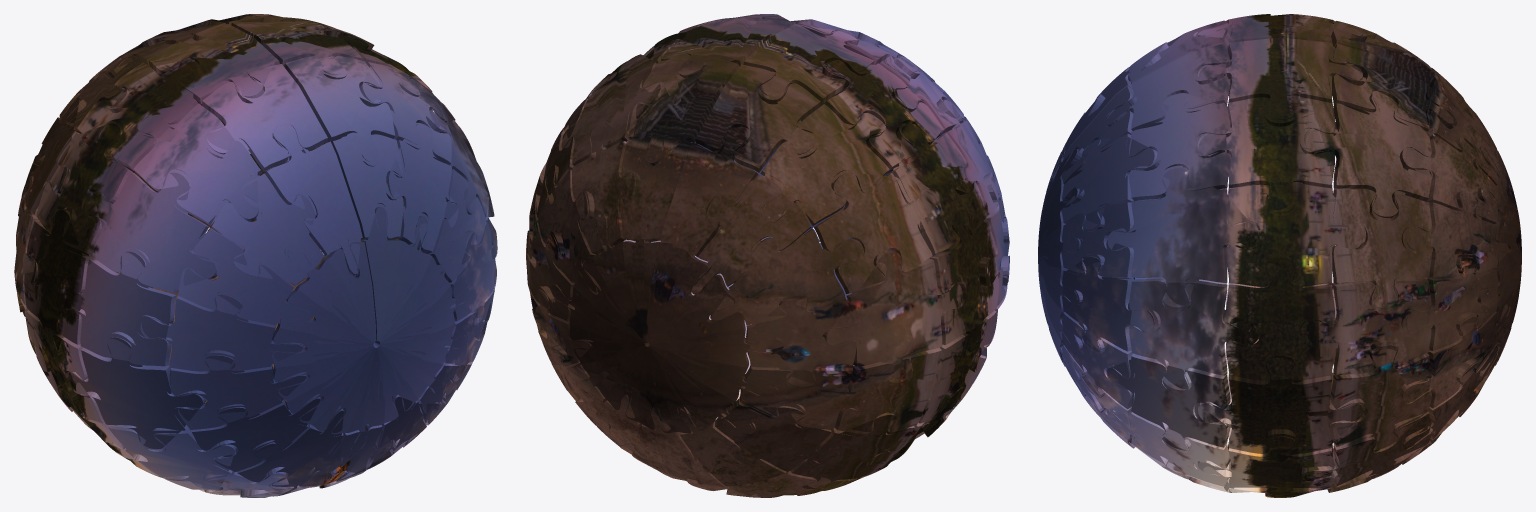
Rendered from medium-puzzle-v9.fbx.
The picture shows the model from 3 angles, left to right: view 1: azimuth 30°, elevation 25°; view 2: azimuth 150°, elevation 25°; view 3: azimuth 270°, elevation 25°; orthographic projection.
Parts seen in each view (by area): view 1: Puzzle-Medium.002, Puzzle-Medium.016, Puzzle-Medium.006, Puzzle-Medium.019, Puzzle-Medium.005, Puzzle-Medium.026, Puzzle-Medium.004, Puzzle-Medium.018, Puzzle-Medium.008, Puzzle-Medium.001, Puzzle-Medium.015, Puzzle-Medium.020 (+26 smaller); view 2: Puzzle-Medium.003, Puzzle-Medium.021, Puzzle-Medium.014, Puzzle-Medium.010, Puzzle-Medium.009, Puzzle-Medium.013, Puzzle-Medium.012, Puzzle-Medium.015, Puzzle-Medium.008, Puzzle-Medium.022, Puzzle-Medium.076, Puzzle-Medium.011 (+26 smaller); view 3: Puzzle-Medium.064, Puzzle-Medium.060, Puzzle-Medium.065, Puzzle-Medium.070, Puzzle-Medium.055, Puzzle-Medium.061, Puzzle-Medium.069, Puzzle-Medium.066, Puzzle-Medium.059, Puzzle-Medium.071, Puzzle-Medium.075, Puzzle-Medium.054 (+26 smaller).
Part boxes in pixels (left/top/right/bottom): Puzzle-Medium.002: left=271, top=207, right=470, bottom=449; Puzzle-Medium.016: left=85, top=172, right=217, bottom=293; Puzzle-Medium.006: left=133, top=103, right=262, bottom=225; Puzzle-Medium.019: left=60, top=251, right=176, bottom=366; Puzzle-Medium.005: left=202, top=64, right=327, bottom=171; Puzzle-Medium.026: left=68, top=337, right=206, bottom=449; Puzzle-Medium.004: left=211, top=173, right=324, bottom=286; Puzzle-Medium.018: left=140, top=294, right=303, bottom=371; Puzzle-Medium.008: left=79, top=59, right=198, bottom=170; Puzzle-Medium.001: left=265, top=126, right=362, bottom=275; Puzzle-Medium.015: left=36, top=123, right=132, bottom=254; Puzzle-Medium.020: left=24, top=208, right=92, bottom=355; Puzzle-Medium.003: left=553, top=208, right=779, bottom=433; Puzzle-Medium.021: left=822, top=250, right=962, bottom=382; Puzzle-Medium.014: left=814, top=172, right=938, bottom=293; Puzzle-Medium.010: left=760, top=104, right=889, bottom=225; Puzzle-Medium.009: left=695, top=64, right=821, bottom=172; Puzzle-Medium.013: left=710, top=228, right=860, bottom=325; Puzzle-Medium.012: left=691, top=174, right=811, bottom=294; Puzzle-Medium.015: left=890, top=123, right=987, bottom=255; Puzzle-Medium.008: left=825, top=60, right=943, bottom=171; Puzzle-Medium.022: left=746, top=295, right=856, bottom=386; Puzzle-Medium.076: left=628, top=56, right=739, bottom=166; Puzzle-Medium.011: left=660, top=127, right=757, bottom=265; Puzzle-Medium.064: left=1107, top=168, right=1258, bottom=307; Puzzle-Medium.060: left=1226, top=256, right=1334, bottom=380; Puzzle-Medium.065: left=1226, top=184, right=1363, bottom=286; Puzzle-Medium.070: left=1197, top=97, right=1334, bottom=212; Puzzle-Medium.055: left=1198, top=355, right=1362, bottom=453; Puzzle-Medium.061: left=1129, top=278, right=1257, bottom=390; Puzzle-Medium.069: left=1304, top=93, right=1431, bottom=218; Puzzle-Medium.066: left=1332, top=189, right=1431, bottom=307; Puzzle-Medium.059: left=1304, top=279, right=1431, bottom=375; Puzzle-Medium.071: left=1129, top=93, right=1230, bottom=200; Puzzle-Medium.075: left=1198, top=37, right=1362, bottom=119; Puzzle-Medium.054: left=1107, top=353, right=1230, bottom=450.
Bounding box in the file's own units: 0.65 × 0.651 × 0.6511.
